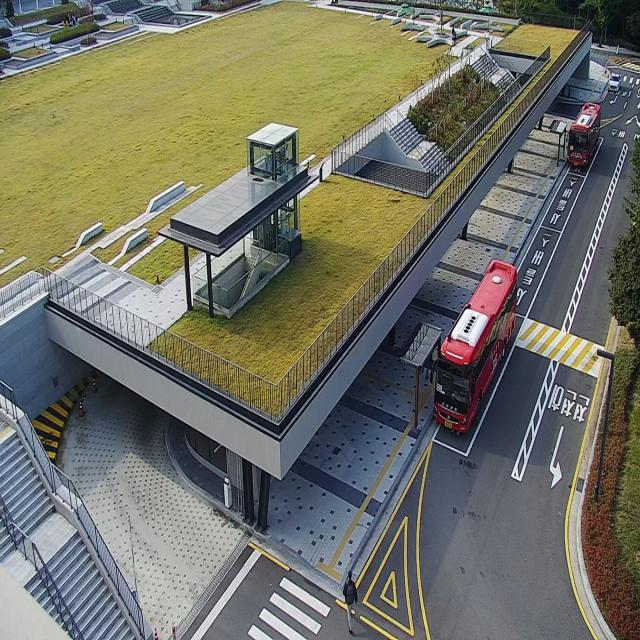queue: (418, 332, 442, 430)
